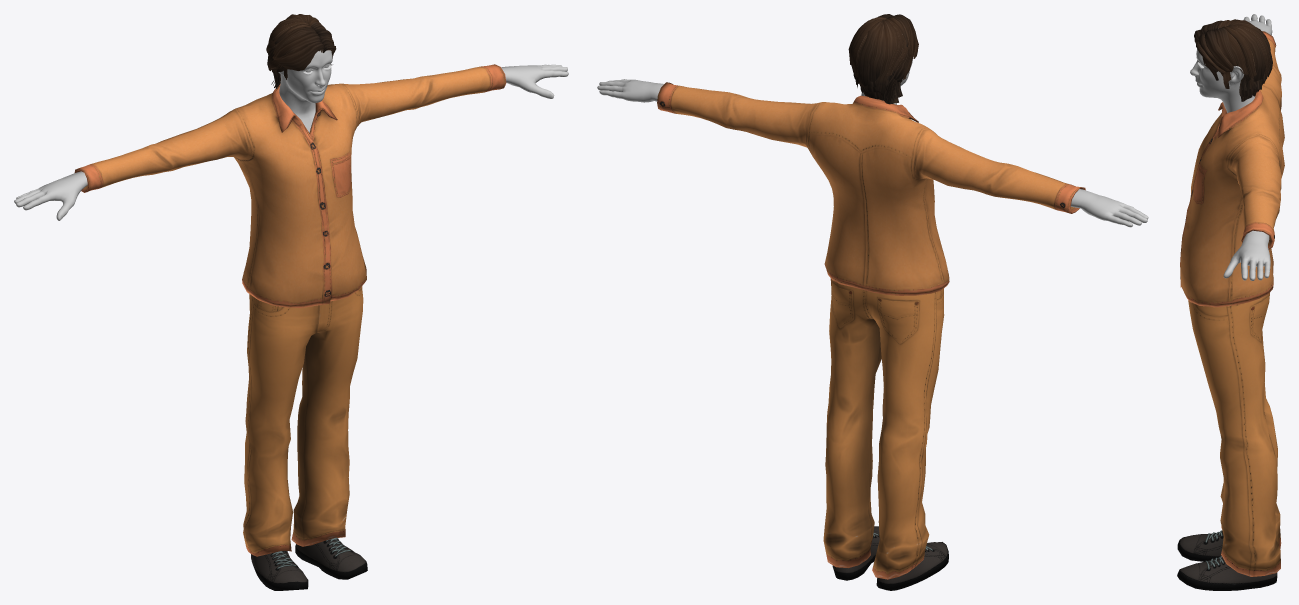
The model's file is ClassD2.obj.
The picture shows the model from 3 angles, left to right: view 1: azimuth 30°, elevation 25°; view 2: azimuth 150°, elevation 25°; view 3: azimuth 270°, elevation 25°; orthographic projection.
Parts seen in each view (by area): view 1: Tops, Bottoms, Body, Shoes, Hair; view 2: Tops, Bottoms, Hair, Body, Shoes; view 3: Tops, Bottoms, Hair, Body, Shoes.
Boxes of the visible parts, <box> form: Tops: <box>74,64,506,307</box>; Bottoms: <box>243,286,363,556</box>; Body: <box>14,50,568,220</box>; Shoes: <box>251,537,367,590</box>; Hair: <box>266,14,336,90</box>; Tops: <box>657,82,1085,295</box>; Bottoms: <box>823,278,944,579</box>; Hair: <box>848,14,918,104</box>; Body: <box>597,59,1148,227</box>; Shoes: <box>832,526,948,590</box>; Tops: <box>1180,31,1284,307</box>; Bottoms: <box>1188,293,1281,576</box>; Hair: <box>1194,19,1272,101</box>; Body: <box>1190,14,1272,280</box>; Shoes: <box>1177,530,1277,590</box>.
Bounding box in the file's own units: 187 × 179 × 31.87.
